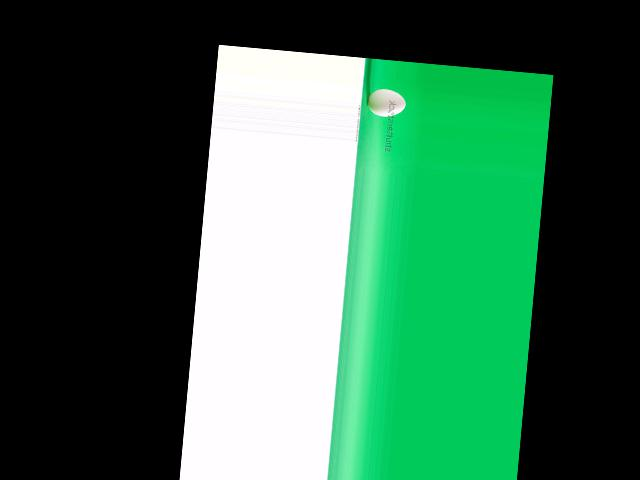egg: (365, 87, 406, 118)
